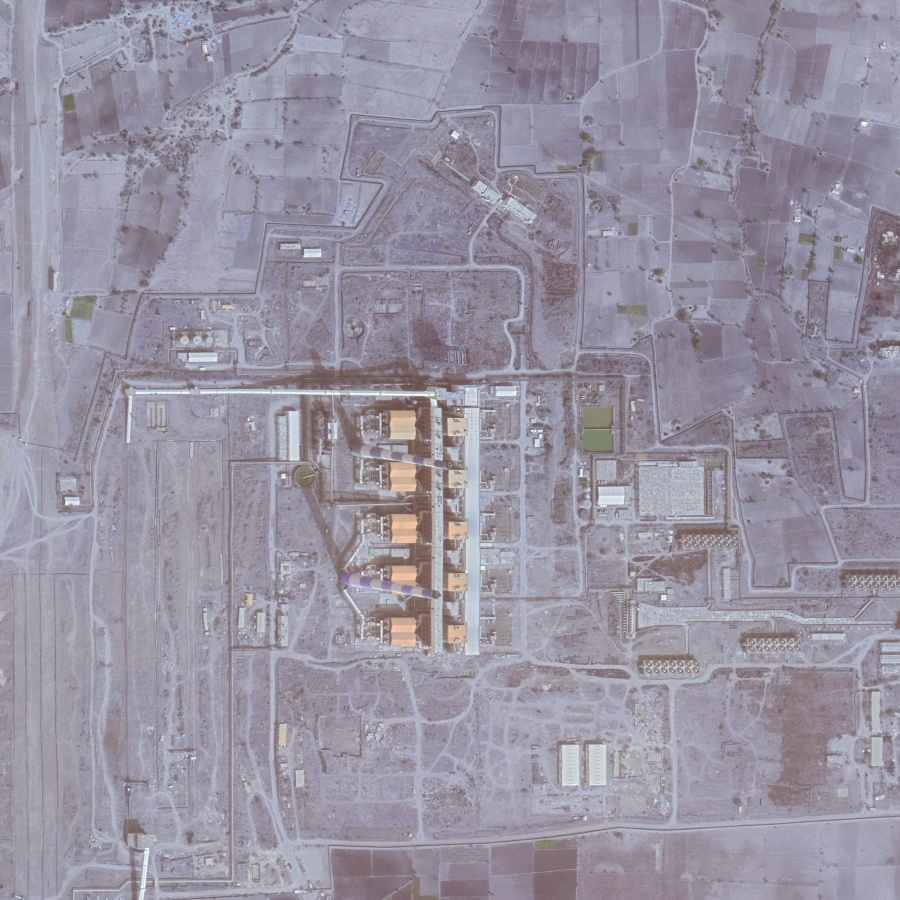PowerPlant: (111, 377, 740, 789)
